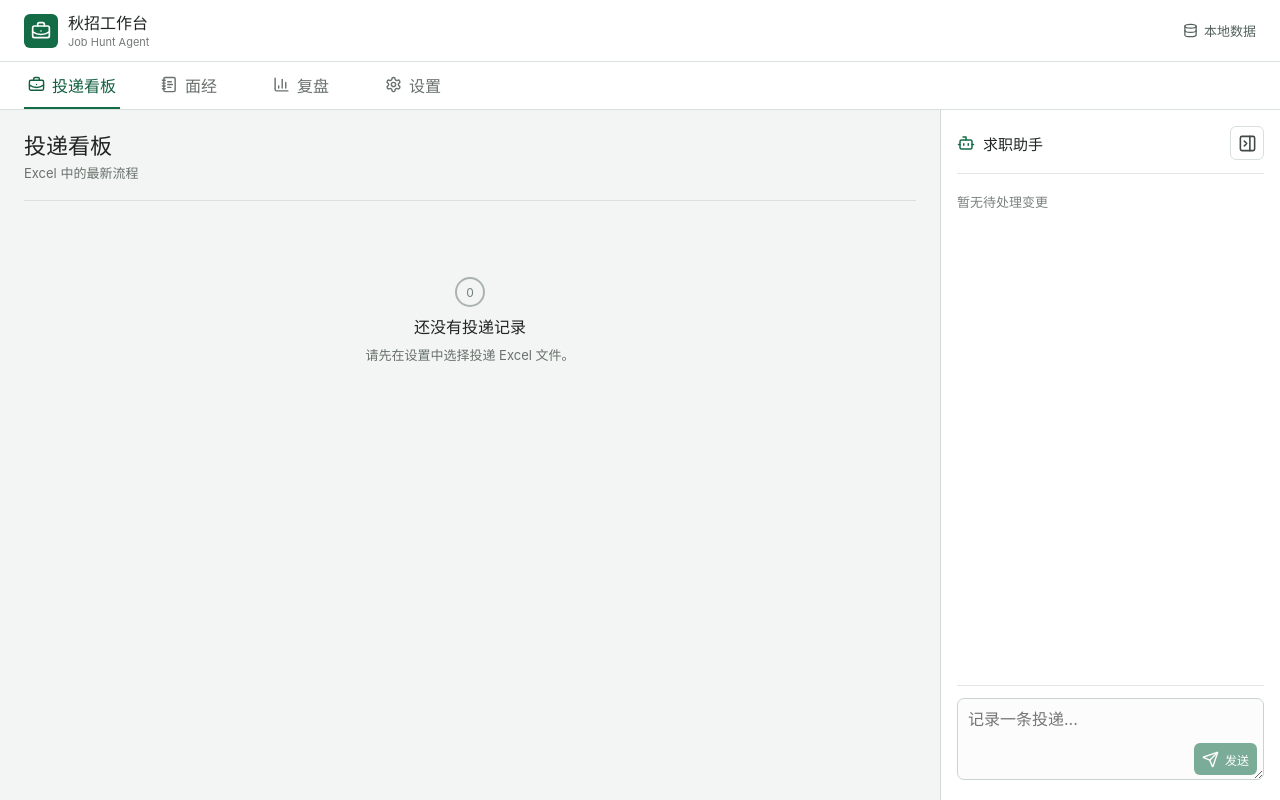
Test: App › switches the active workspace tab
Click the tab "面经" at (189, 86), box left=146, top=62, right=232, bottom=109
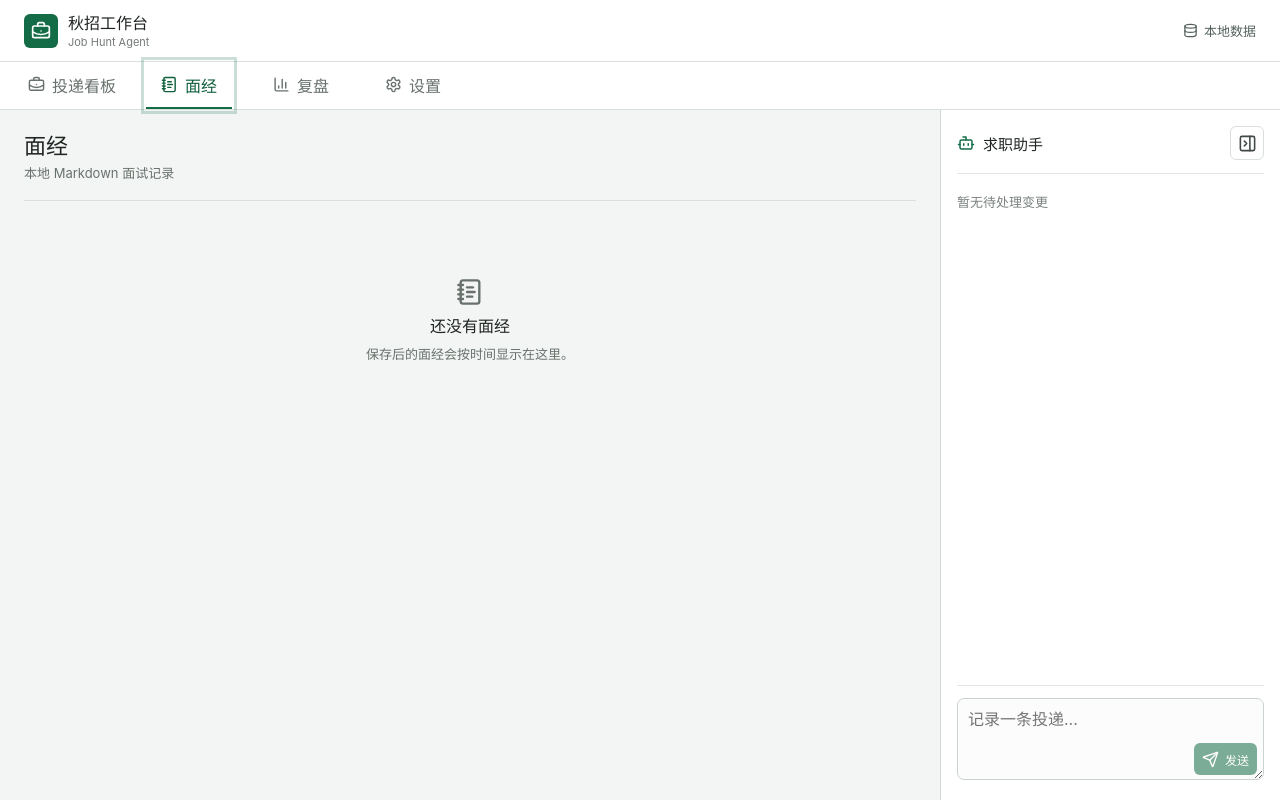
Now the heading "面经" is shown, box left=24, top=133, right=68, bottom=159
